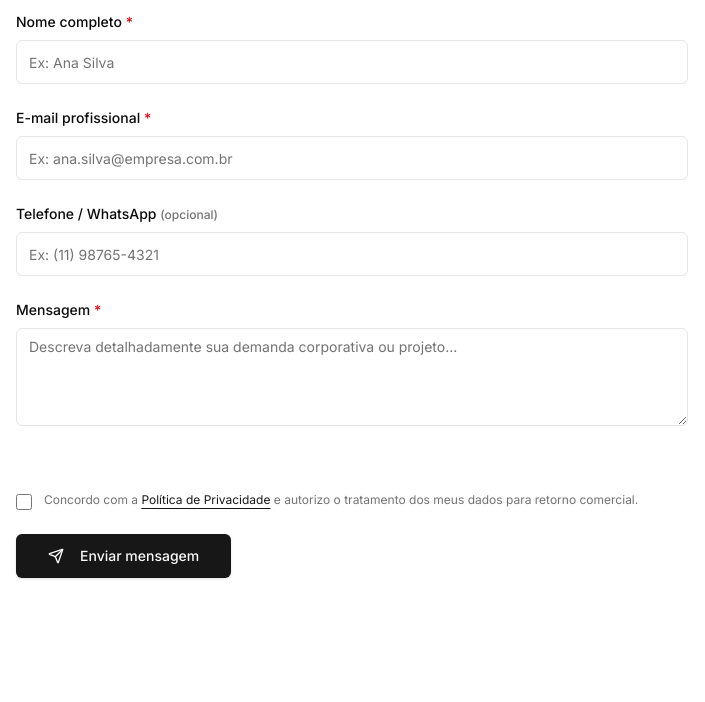
it: ContactForm Component (src/components/shared/contact-form/contact-form.tsx) › displays error alert with direct WhatsApp channel link when submission fails
Type "Mariana Costa" into the field labelled "Nome completo *" at (352, 62), box [16, 40, 688, 84]
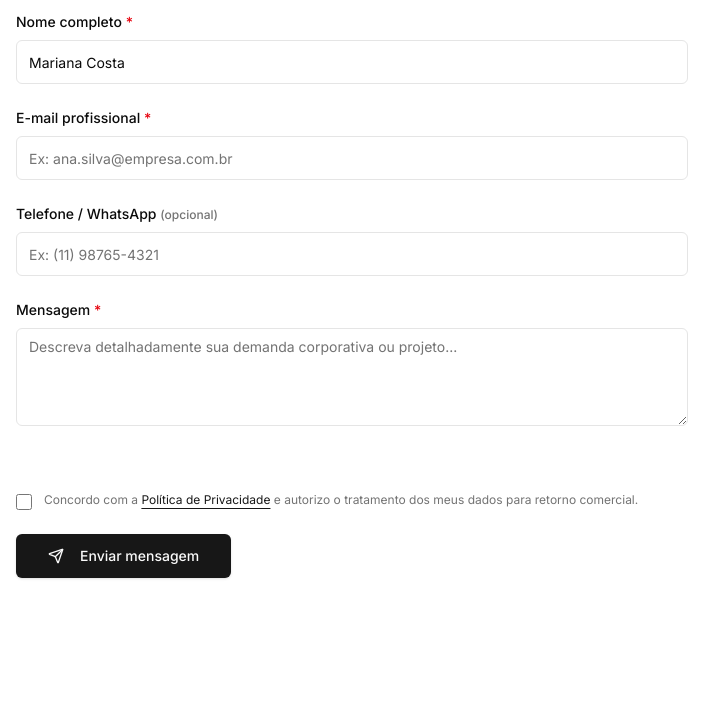
Type "mariana@exemplo.com" into the field labelled "E-mail profissional *" at (352, 158), box [16, 136, 688, 180]
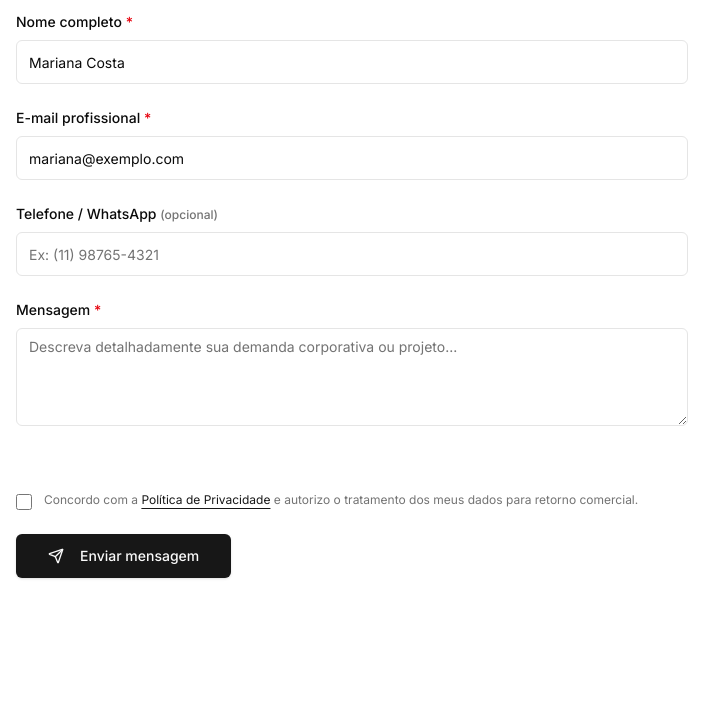
Replace the text in the text box labelled "Mensagem *" with "Mensagem detalhada sobre serviços de consultoria técnica." at (352, 377), box [16, 328, 688, 426]
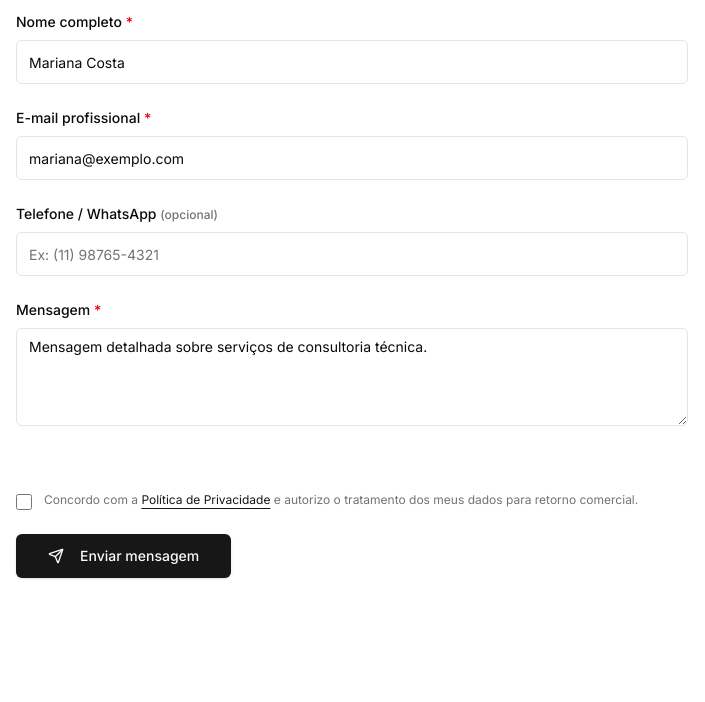
Click the button "Enviar mensagem" at (124, 556), box [16, 534, 231, 578]
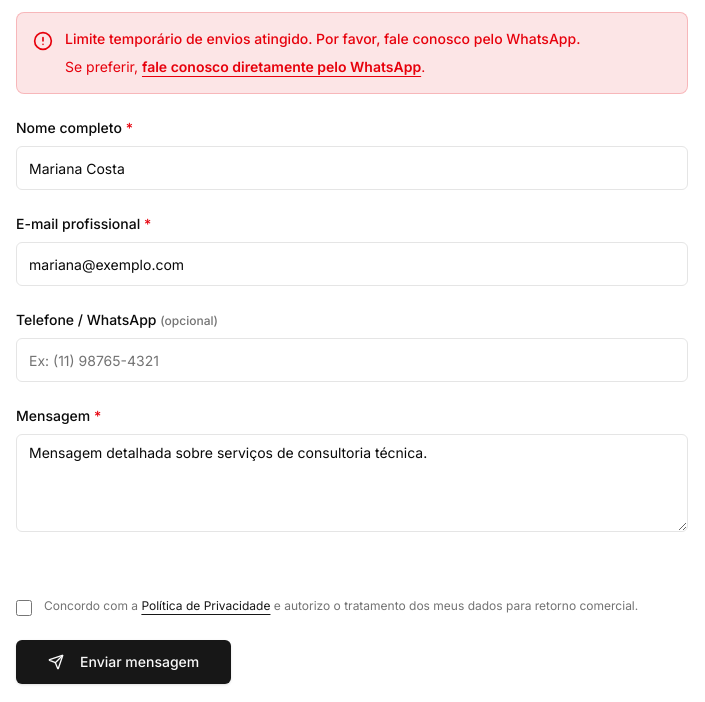
expect the message shows "Limite temporário de envios atingido": met, box [65, 30, 580, 47]
expect the link "fale conosco diretamente pelo WhatsApp" is shown: met, box [142, 58, 421, 75]
